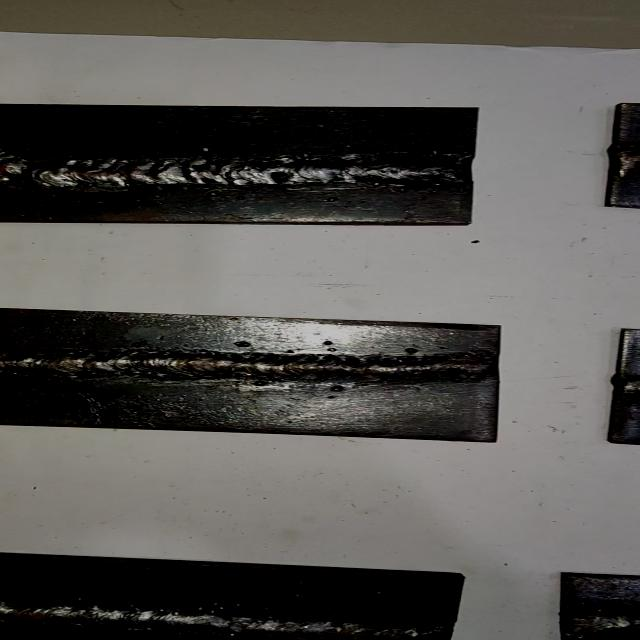Defect: (561, 612, 600, 638)
Good Weld: (2, 605, 455, 640), (0, 156, 476, 189), (0, 352, 497, 379)
